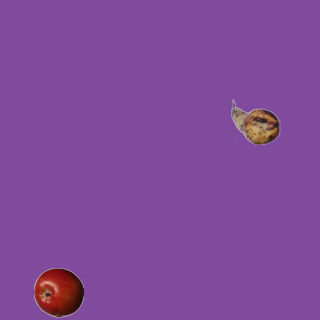Apple Braeburn: (33, 267, 83, 317)
Pear Abate: (230, 97, 280, 147)
